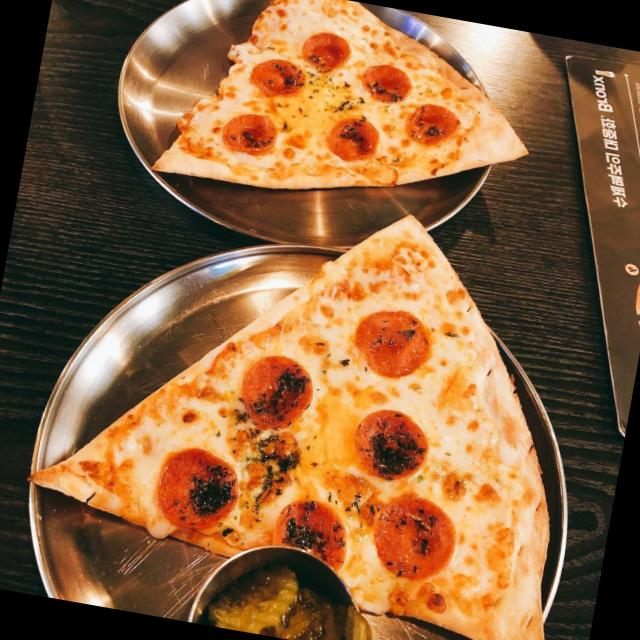pepperoni: (368, 486, 463, 588), (263, 486, 358, 582), (346, 401, 440, 489), (350, 298, 438, 384), (238, 346, 320, 434), (153, 450, 235, 525), (322, 104, 387, 168), (399, 95, 463, 155), (215, 103, 279, 162), (348, 54, 412, 108), (294, 25, 356, 78), (244, 52, 306, 104)
pizza: (30, 219, 552, 640), (160, 0, 526, 195)
